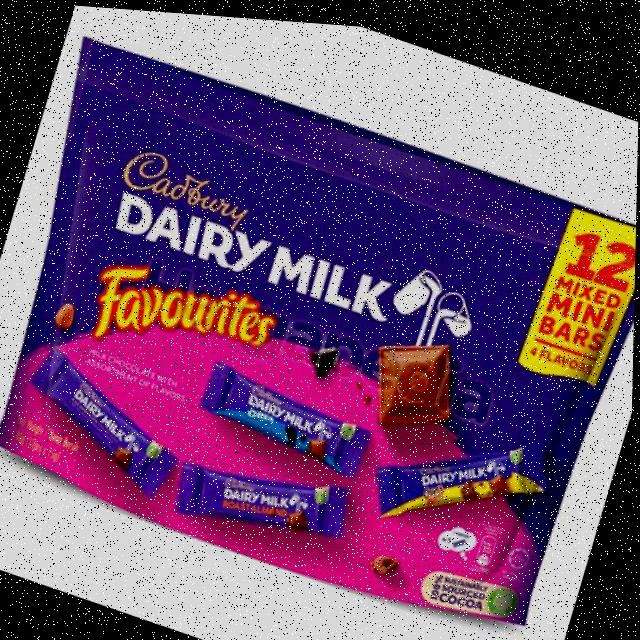cadbury: (0, 28, 640, 640), (370, 390, 566, 556), (11, 343, 200, 509), (174, 430, 356, 563), (193, 353, 383, 480)
